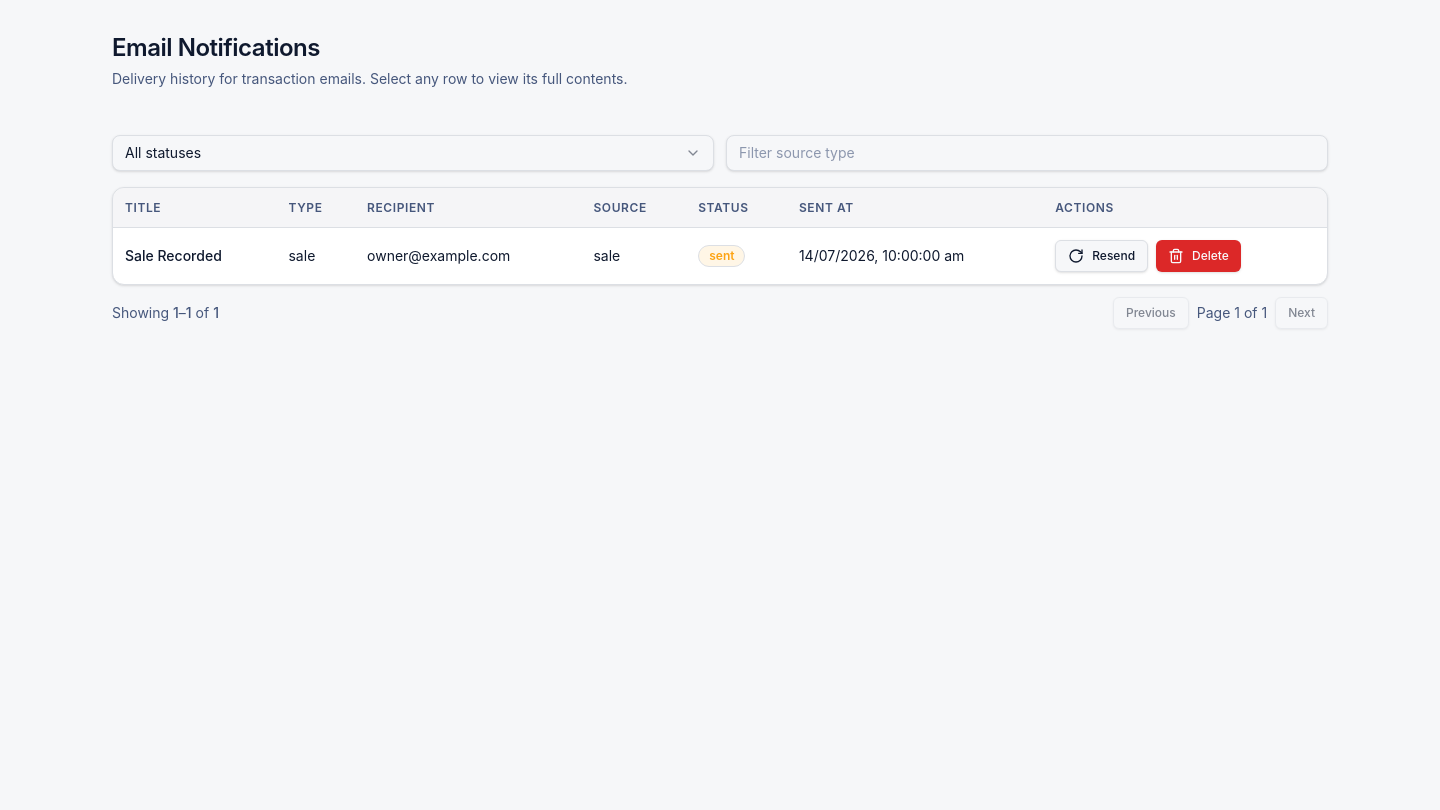
Test: NotificationsListPage › opens every notification row and displays its complete message
Click the text "Sale Recorded" at {"x": 173, "y": 256}, box [125,247,222,264]
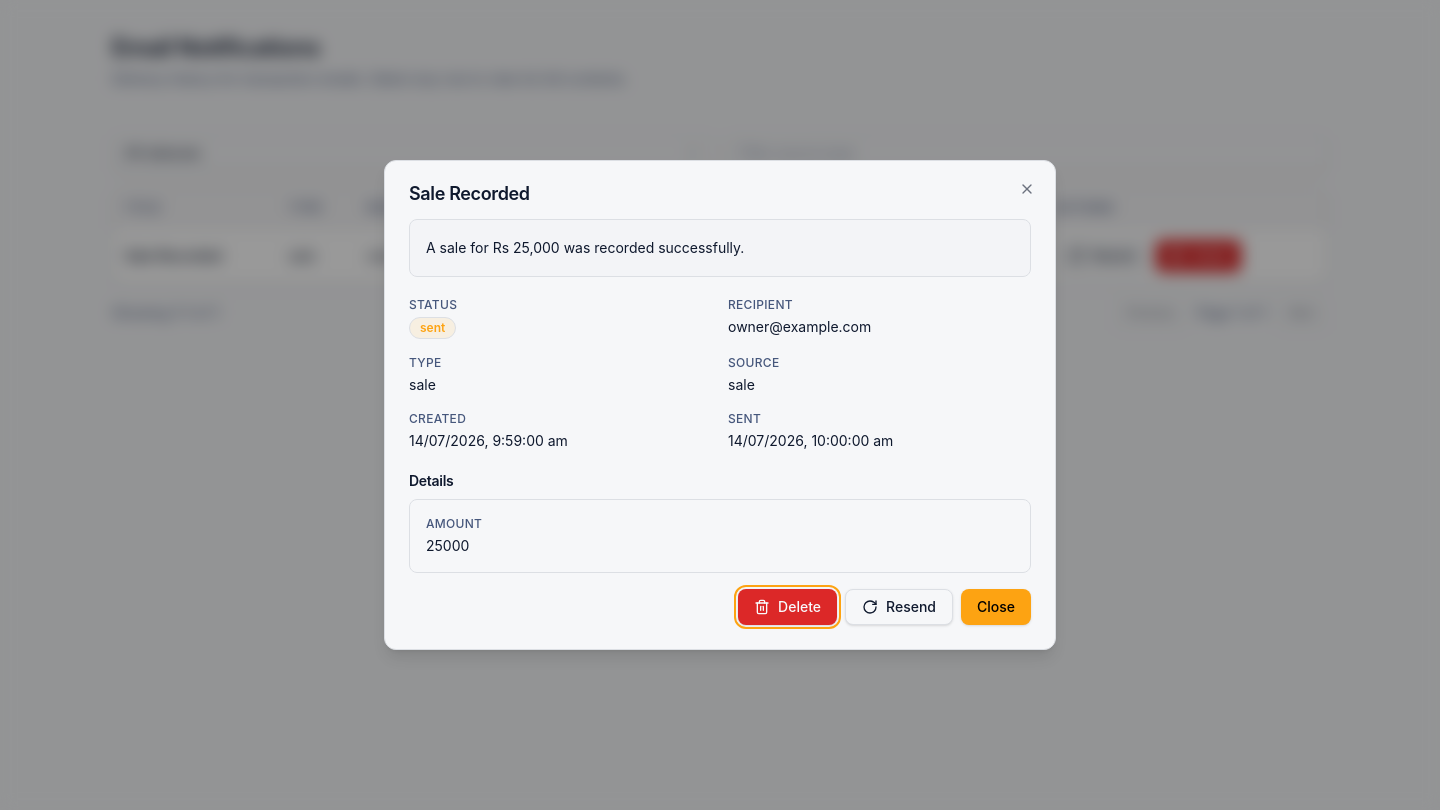
Result: the text "A sale for Rs 25,000 was recorded successfully." is shown at [409,219,1031,277]
Result: the text "owner@example.com" is shown at [728,318,871,335]
Result: the text "25000" is shown at [426,537,469,554]
